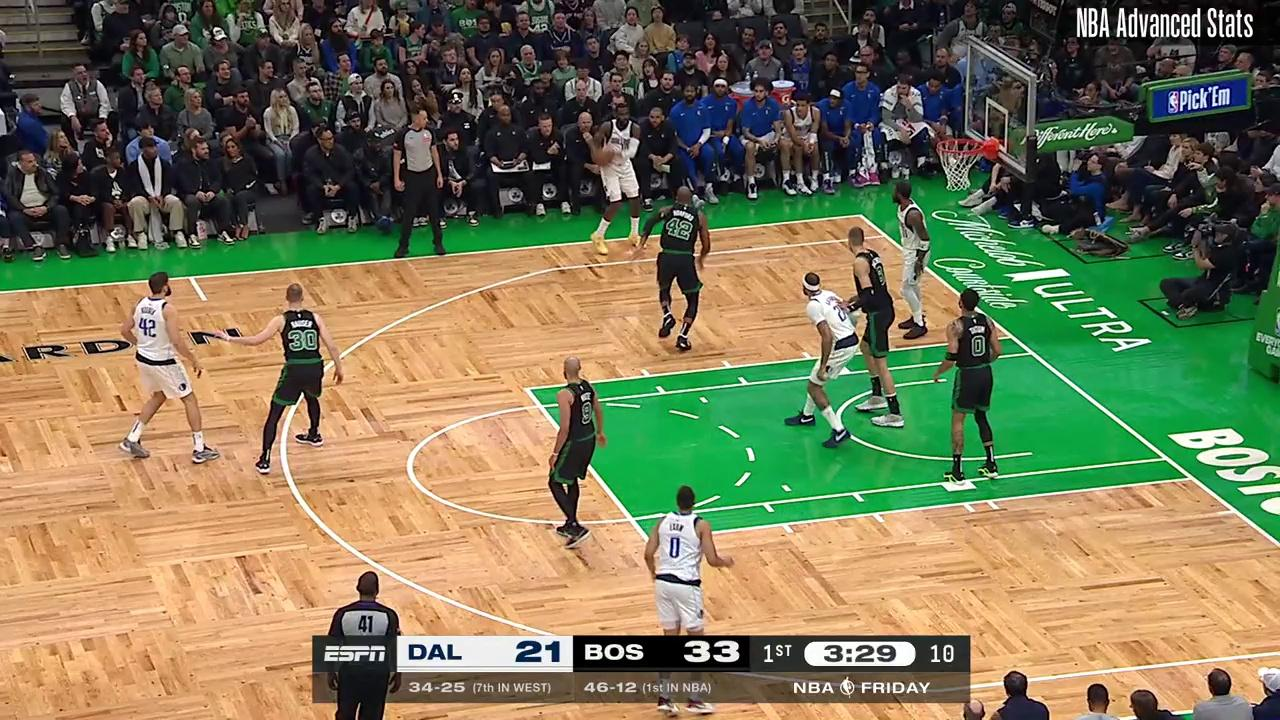3_sx: (878, 230, 893, 242)
b_sx: (854, 208, 867, 222)
free_asx: (520, 382, 536, 397)
free_bdx: (1183, 471, 1200, 485)
free_bsx: (1005, 330, 1018, 342)
mid_sx: (197, 293, 212, 307)
referee: (324, 568, 407, 718), (394, 108, 447, 258)
team: (217, 281, 345, 475), (934, 290, 999, 483), (841, 228, 903, 429), (547, 357, 608, 545), (645, 187, 712, 350)
team1: (122, 270, 221, 465), (646, 489, 732, 712), (786, 272, 857, 447), (585, 104, 646, 251), (892, 183, 933, 340)
timer: (817, 640, 900, 669)
